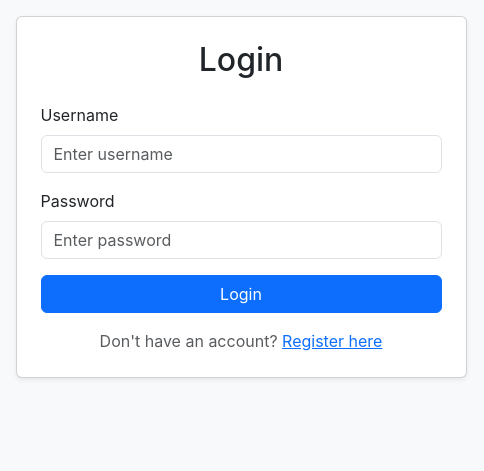
Test: Login › shows error message when login fails
Type "wrong" into the field with placeholder "Enter username" at (241, 154), box [40,135,442,173]
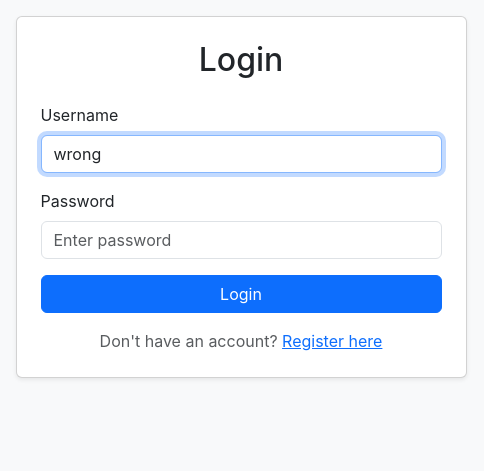
Type "wrong" into the password field with placeholder "Enter password" at (241, 240), box [40,221,442,259]
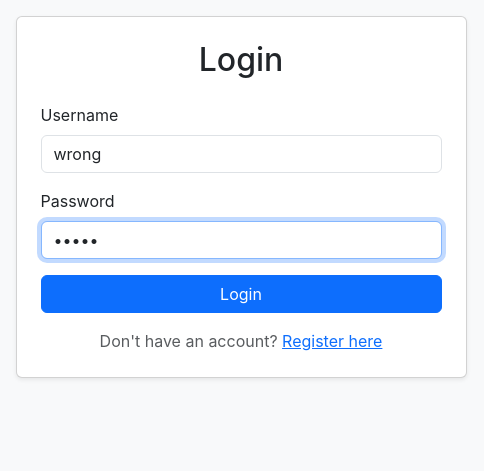
Click the button "Login" at (241, 294), box [40,275,442,313]
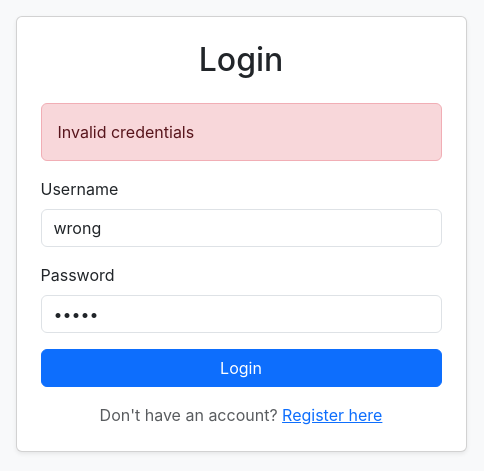
Result: the text "Invalid credentials" is shown at [40,103,442,161]
